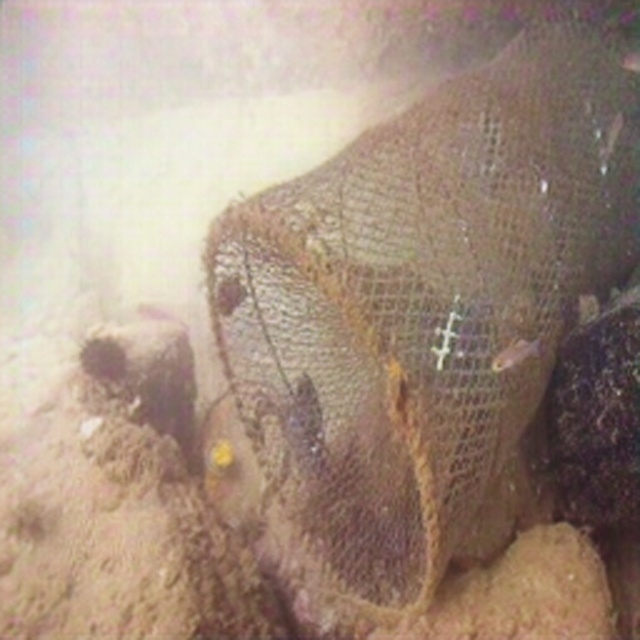mine: (203, 0, 640, 629)
